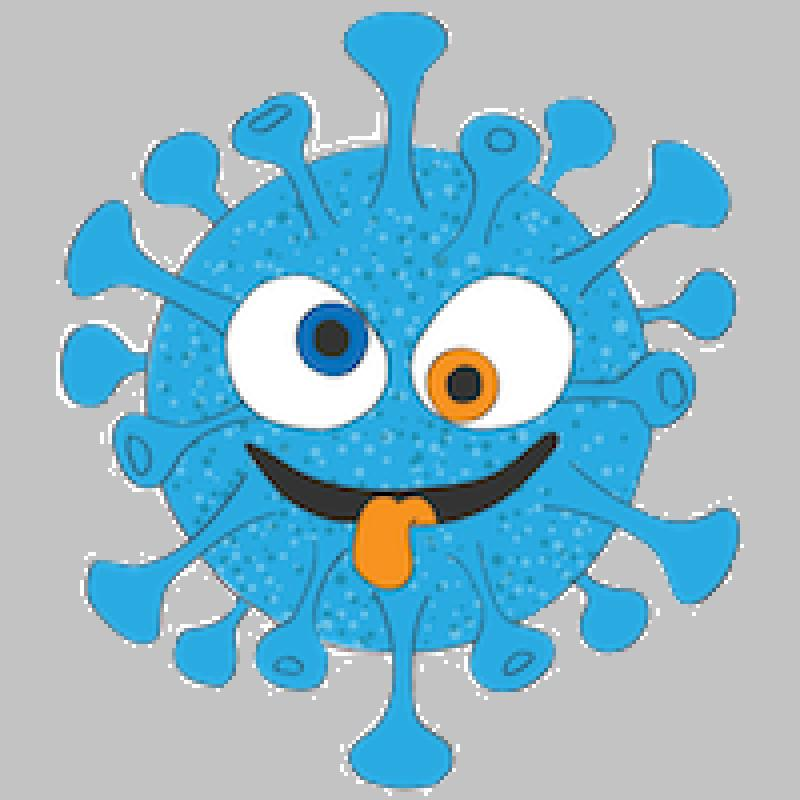corona3: (4, 0, 796, 796)
